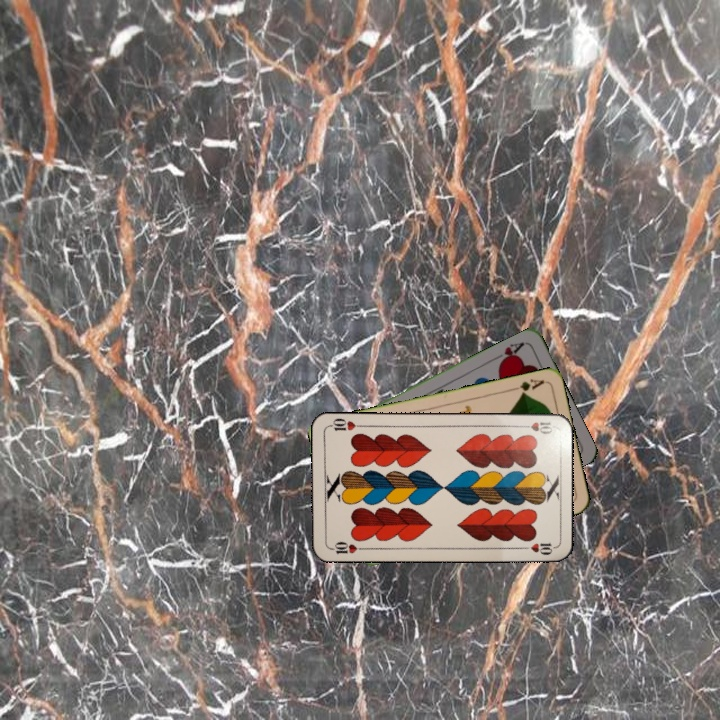GA: (507, 375, 547, 398)
H10: (327, 538, 367, 557), (515, 418, 556, 436)
HA: (490, 338, 527, 367)
